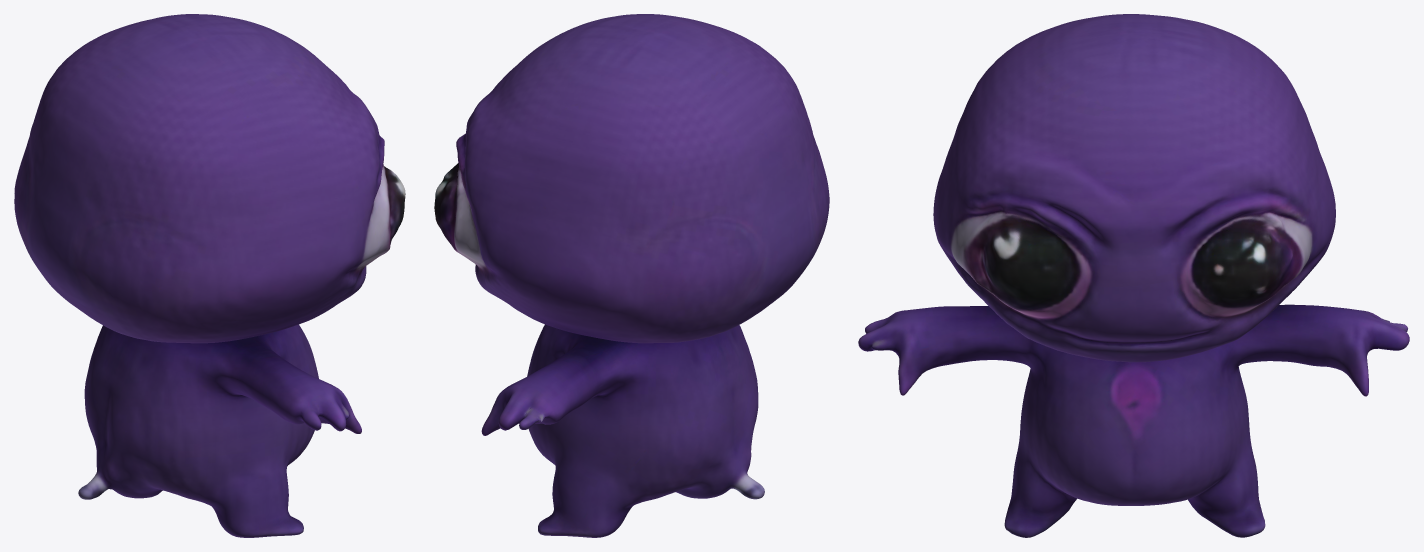
Rendered from adorable_purple_alien.glb.
3 renders of one model, left to right at view 1: azimuth 30°, elevation 25°; view 2: azimuth 150°, elevation 25°; view 3: azimuth 270°, elevation 25°, orthographic. The views are drawn at different scales.
Visible parts, largest first — view 1: high_poly; view 2: high_poly; view 3: high_poly.
Part boxes in pixels (x1=…): high_poly: x1=14, y1=14, x2=405, y2=537; high_poly: x1=434, y1=14, x2=829, y2=537; high_poly: x1=858, y1=14, x2=1409, y2=537.
Bounding box in the file's own units: 0.6689 × 0.9651 × 1.
Materials: 1 (1 with a texture image).
